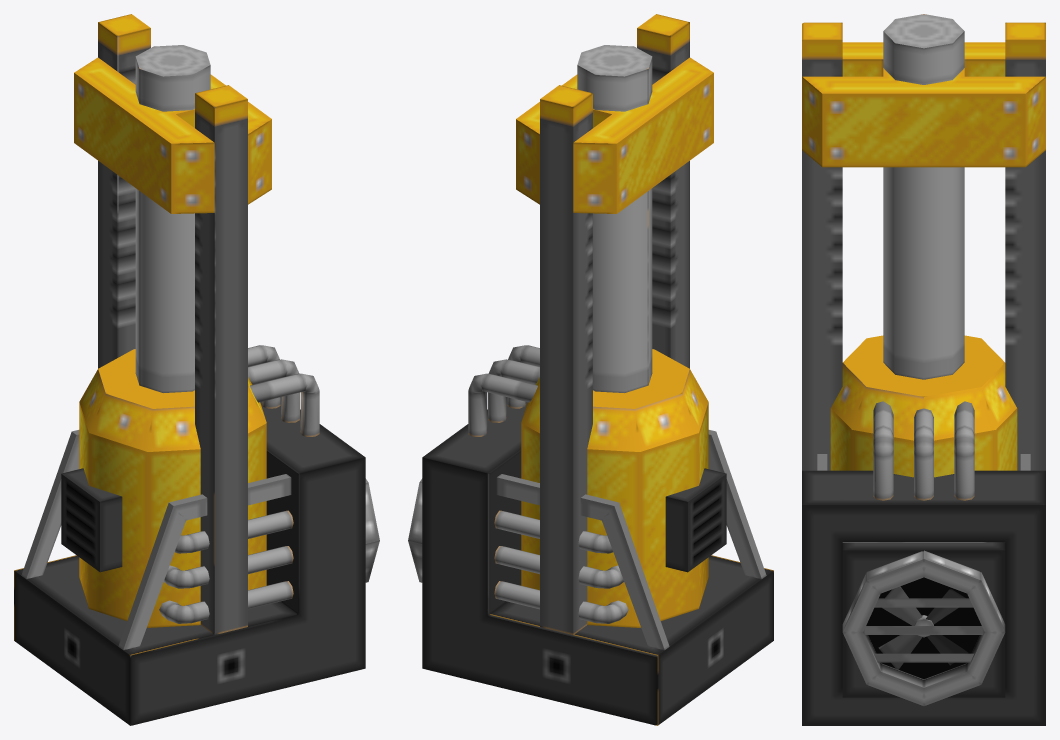
File: compressor.obj
3 views of the same model, side by side, from view 1: azimuth 30°, elevation 25°; view 2: azimuth 150°, elevation 25°; view 3: azimuth 270°, elevation 25° (orthographic). The views are drawn at different scales.
Visible parts, largest first — view 1: Compressor, Pump; view 2: Compressor, Pump; view 3: Compressor, Pump, Fan.
Part boxes in pixels (box(x1,y1,x2,y2)): Compressor: box(14, 14, 379, 725); Pump: box(74, 45, 271, 392); Compressor: box(408, 14, 773, 725); Pump: box(516, 45, 713, 392); Compressor: box(802, 22, 1045, 725); Pump: box(802, 14, 1045, 379); Fan: box(878, 586, 968, 669).
Bounding box in the file's own units: 4 × 8.5 × 3.
